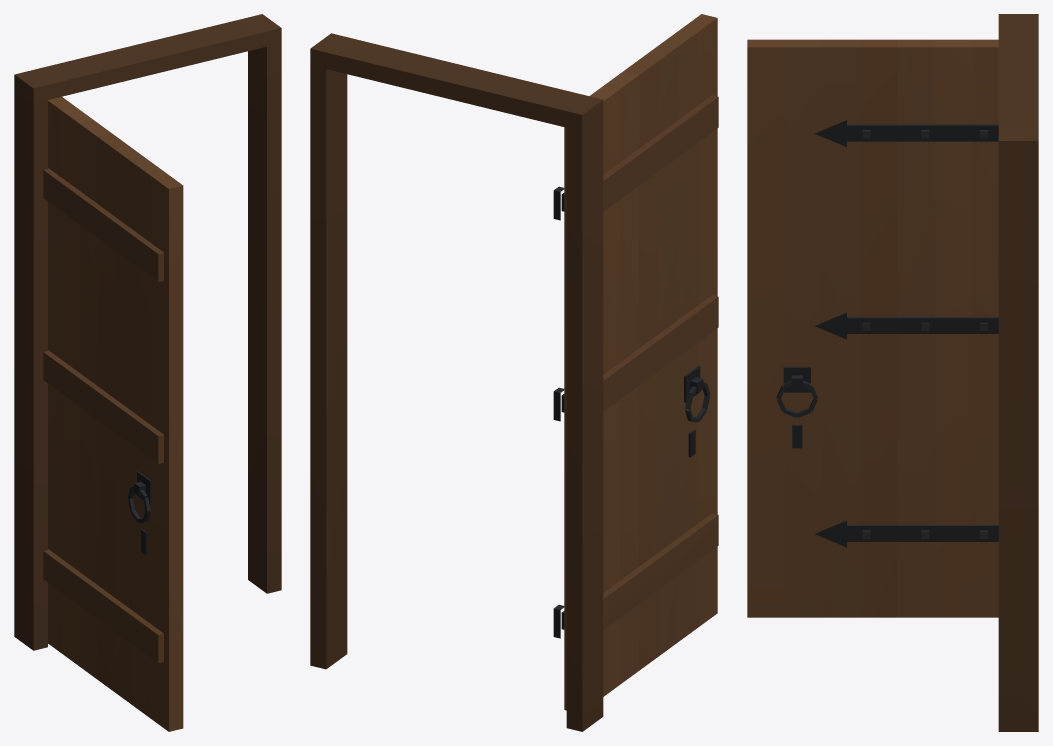
Rendered from door.oak_slim_open.oak.glb.
3 views of the same model, side by side, from view 1: azimuth 30°, elevation 25°; view 2: azimuth 150°, elevation 25°; view 3: azimuth 270°, elevation 25° (orthographic). The views are drawn at different scales.
Parts seen in each view (by area): view 1: door_oak_slim_open_oak; view 2: door_oak_slim_open_oak; view 3: door_oak_slim_open_oak.
Part boxes in pixels (bbox=[...]): door_oak_slim_open_oak: bbox=[14, 14, 281, 731]; door_oak_slim_open_oak: bbox=[310, 14, 718, 731]; door_oak_slim_open_oak: bbox=[747, 14, 1038, 731].
Size of what is drawn, in the model's own units: 1.2 by 2.6 by 1.16.
